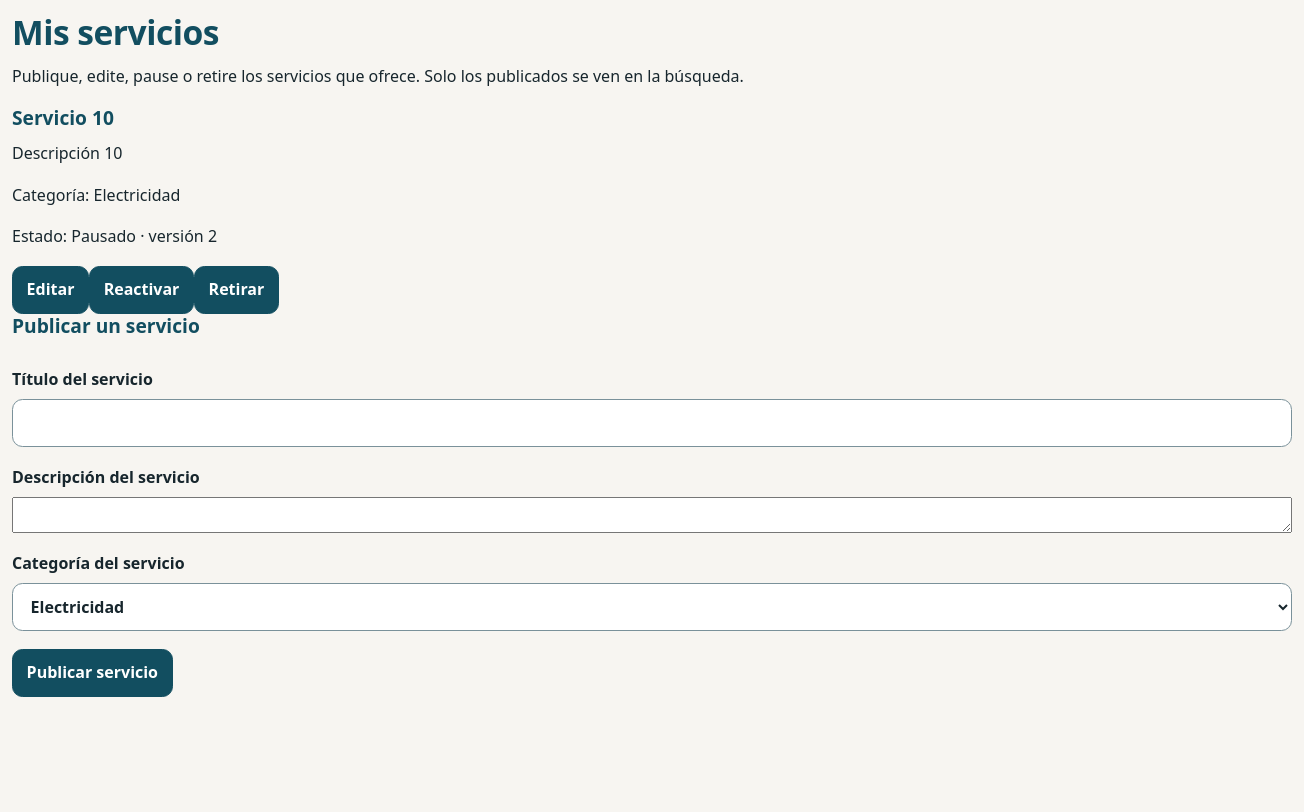
it: CA-SER-02 el retiro exige confirmación y deja el servicio en modo lectura
Click the button with aria-label "Retirar Servicio 10" at (236, 290), box [194,266,279,314]
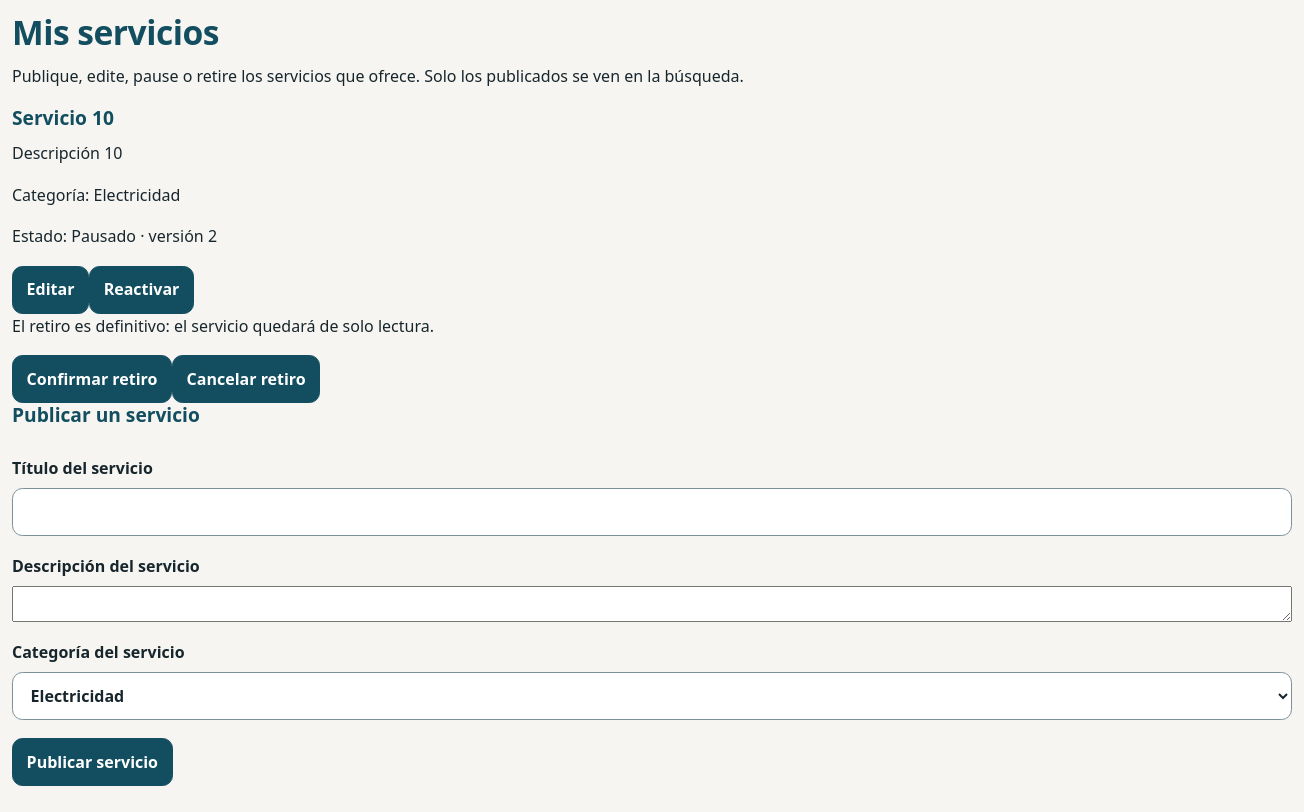
Now the text "El retiro es definitivo" is shown, box [12,315,434,337]
Click the button "Cancelar retiro" at (246, 379), box [172,355,320,403]
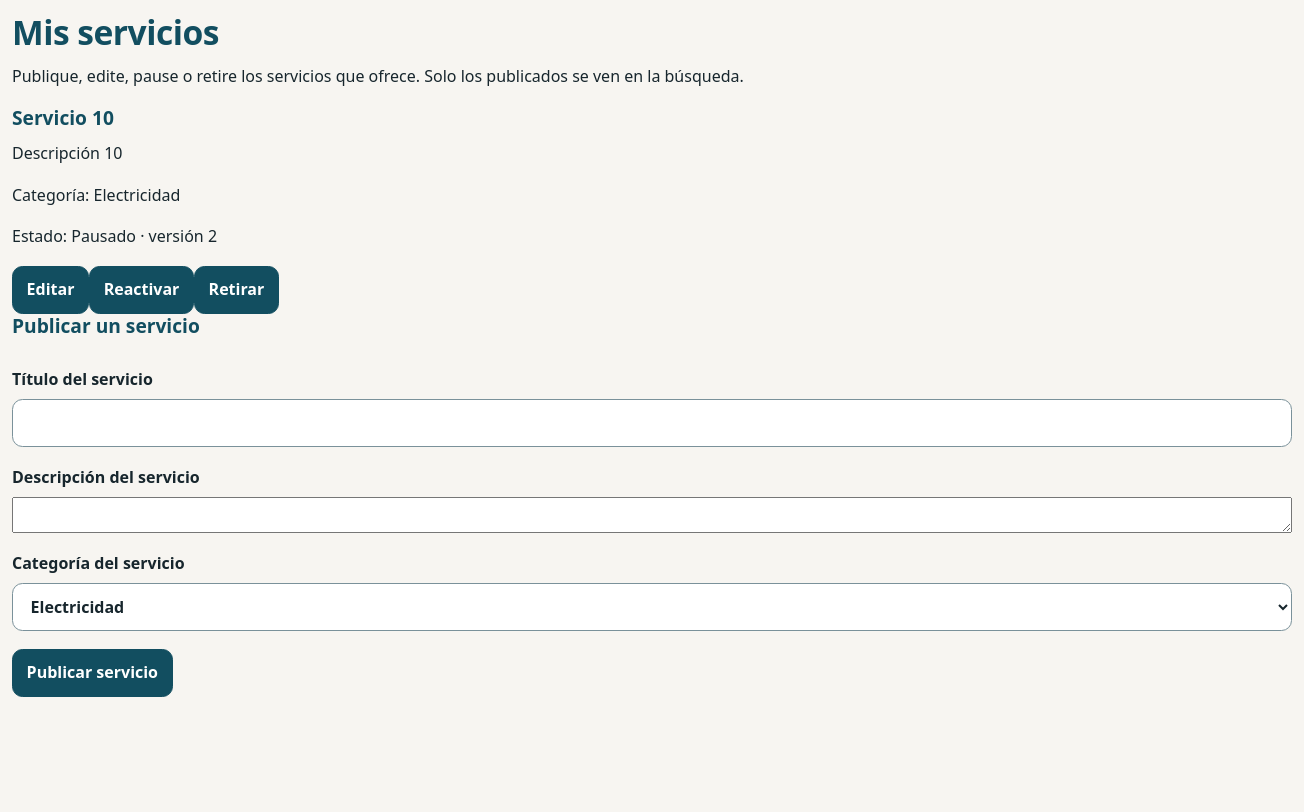
Now the text "El retiro es definitivo" is gone
Click the button with aria-label "Retirar Servicio 10" at (236, 290), box [194,266,279,314]
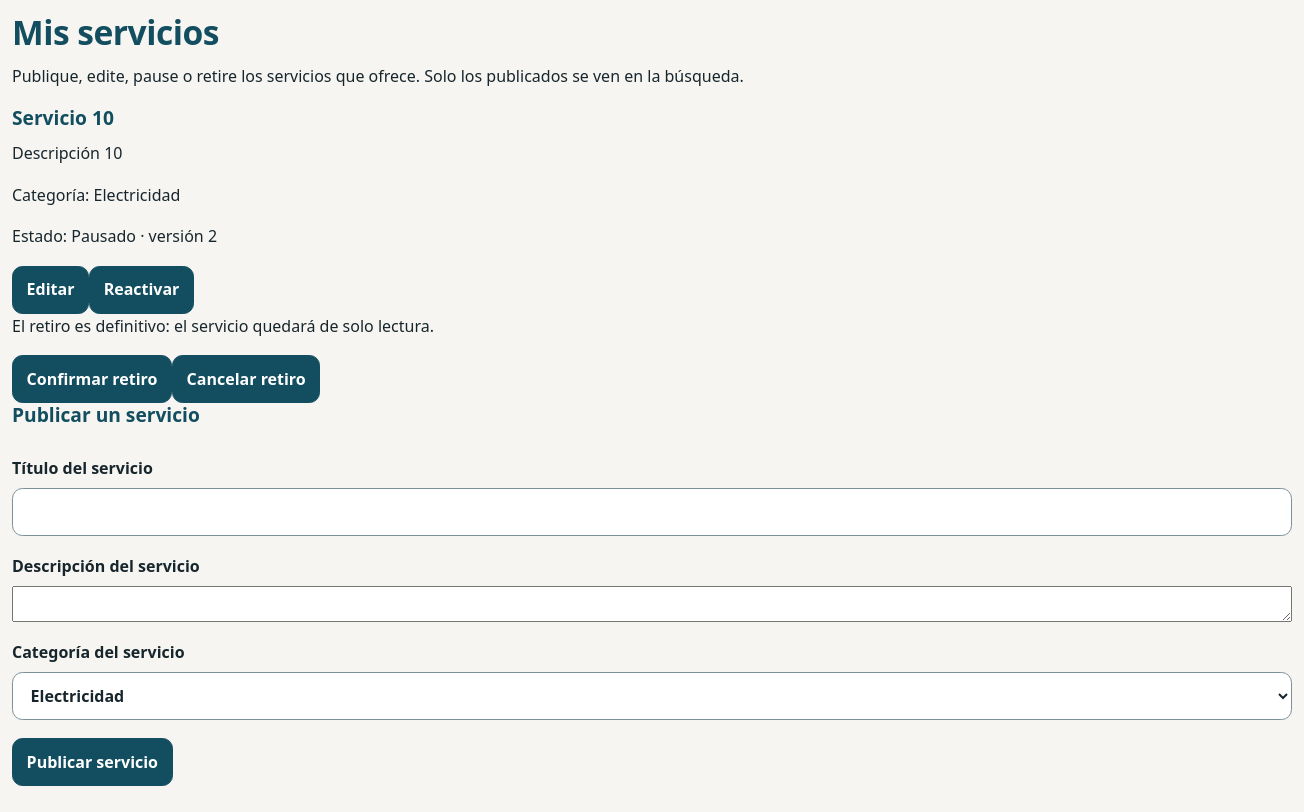
Click the button with aria-label "Confirmar retiro de Servicio 10" at (92, 379), box [12,355,172,403]
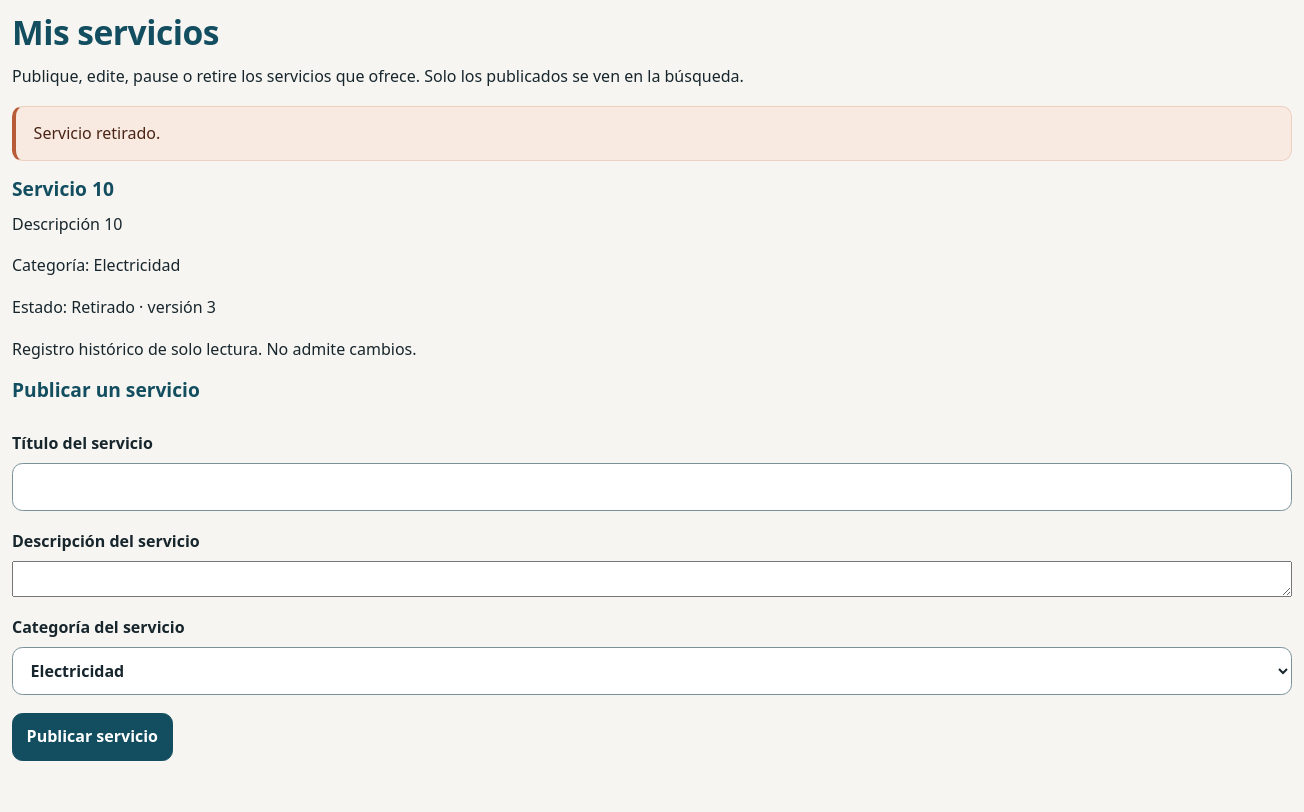
Now the text "Estado: Retirado · versión 3" is shown, box [12,296,216,318]
